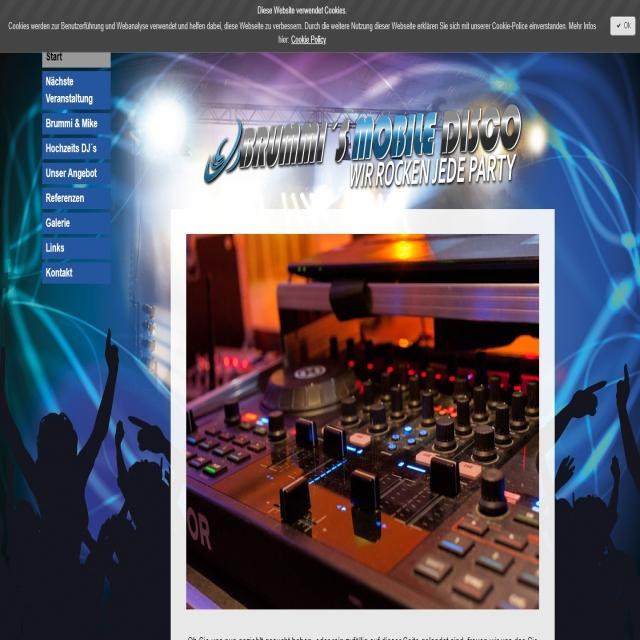button: (43, 73, 109, 108), (42, 183, 111, 211), (42, 138, 110, 161), (43, 236, 112, 258), (43, 112, 109, 133), (42, 216, 111, 234), (42, 164, 108, 182), (44, 53, 110, 64), (610, 17, 635, 36)
heading: (195, 100, 528, 196)
iframe: (1, 0, 640, 50)
image: (0, 1, 636, 590), (169, 207, 550, 640)
